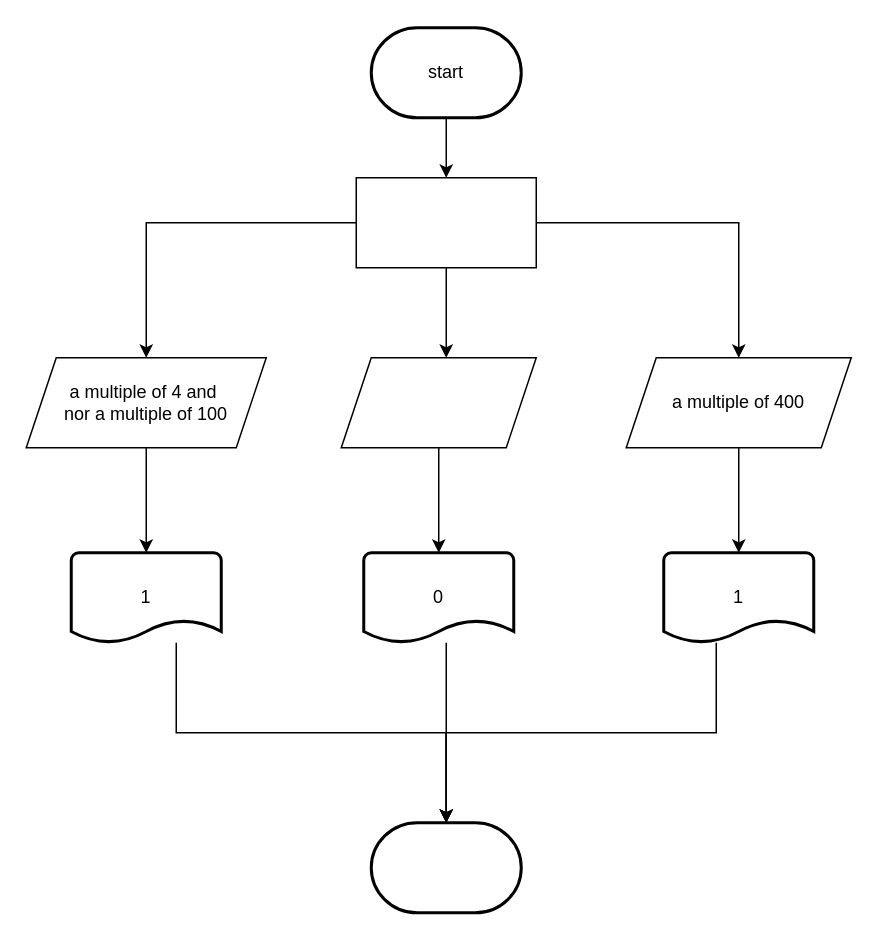
This 878x939 diagram has some shape labels left out. Here are the shapes that lost their labels. From the top down, the box of each, then its label:
(355, 176, 536, 268): year input
(340, 356, 536, 448): else
(369, 820, 522, 914): finish
